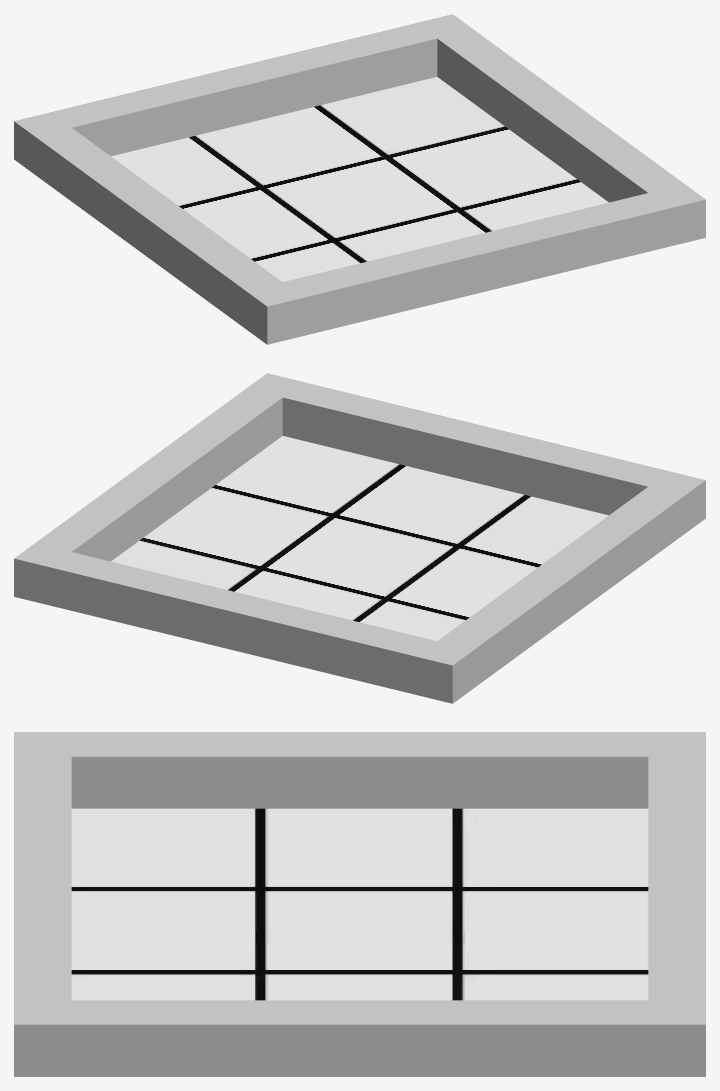
File: plateau.glb
The picture shows the model from 3 angles, top to bottom: view 1: azimuth 30°, elevation 25°; view 2: azimuth 150°, elevation 25°; view 3: azimuth 270°, elevation 25°; orthographic projection. The views are drawn at different scales.
Visible parts, largest first — view 1: Plane, Cube.003, Cube.002, Cube.001, Cube; view 2: Plane, Cube.002, Cube.003, Cube.001, Cube; view 3: Plane, Cube, Cube.001, Cube.002, Cube.003.
Boxes of the visible parts, x1,y1,x2,y2 form: Plane: (111, 77, 608, 281); Cube.003: (246, 184, 705, 344); Cube.002: (14, 14, 473, 174); Cube.001: (35, 128, 282, 328); Cube: (437, 29, 684, 202); Plane: (111, 436, 608, 640); Cube.002: (14, 543, 473, 703); Cube.003: (246, 373, 705, 533); Cube.001: (437, 487, 684, 687); Cube: (35, 388, 282, 561); Plane: (71, 808, 648, 1000); Cube: (71, 1000, 648, 1076); Cube.001: (71, 732, 648, 808); Cube.002: (648, 732, 705, 1076); Cube.003: (14, 732, 71, 1076).
Size of the model in its own units: 2.4 by 0.2 by 2.4.
2 materials, 1 textured.
